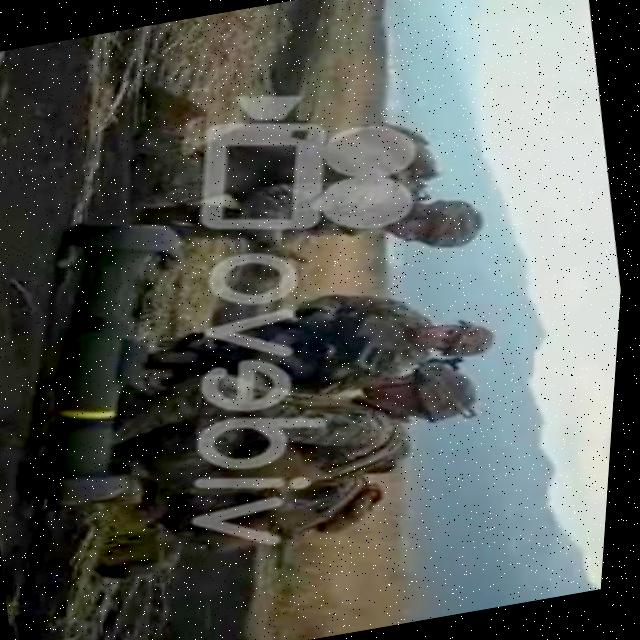rocket: (0, 191, 236, 525)
